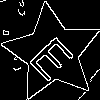E: (27, 27, 83, 84)
